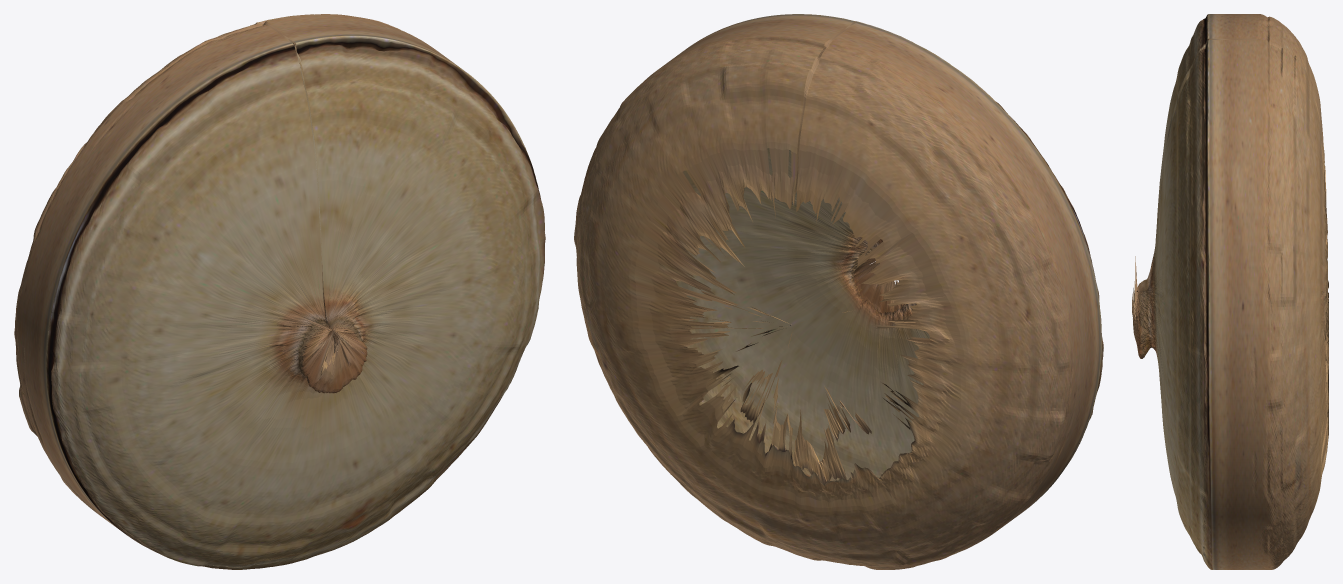
The picture shows the model from 3 angles, left to right: view 1: azimuth 30°, elevation 25°; view 2: azimuth 150°, elevation 25°; view 3: azimuth 270°, elevation 25°; orthographic projection. The views are drawn at different scales.
Parts seen in each view (by area): view 1: geometry_0; view 2: geometry_0; view 3: geometry_0.
Part boxes in pixels (box(x1,y1,x2,y2)): geometry_0: box(14, 14, 545, 569); geometry_0: box(574, 14, 1103, 569); geometry_0: box(1132, 14, 1328, 569).
Bounding box in the file's own units: 2 × 2 × 0.7074.
Materials: 1 (1 with a texture image).
